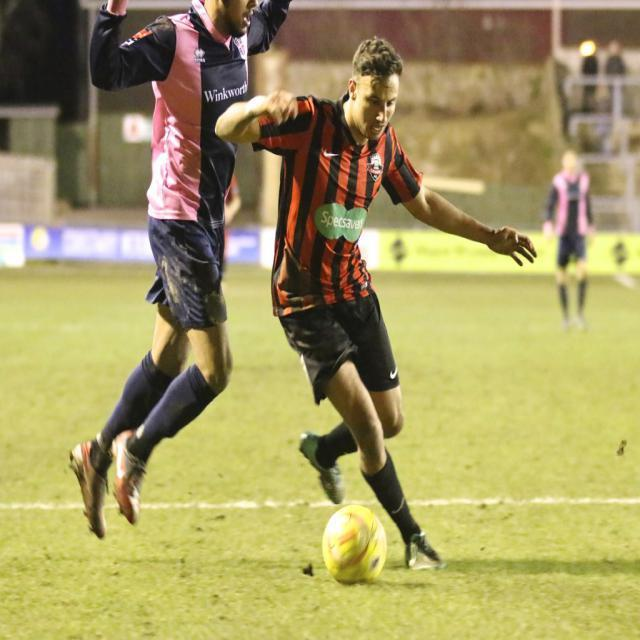football: (304, 498, 396, 585)
